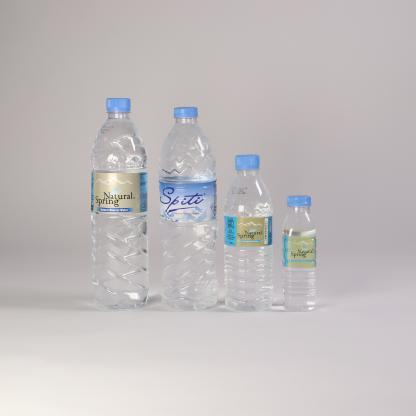bottle: (81, 88, 153, 310), (158, 86, 224, 310), (226, 140, 280, 310), (283, 181, 321, 310)
